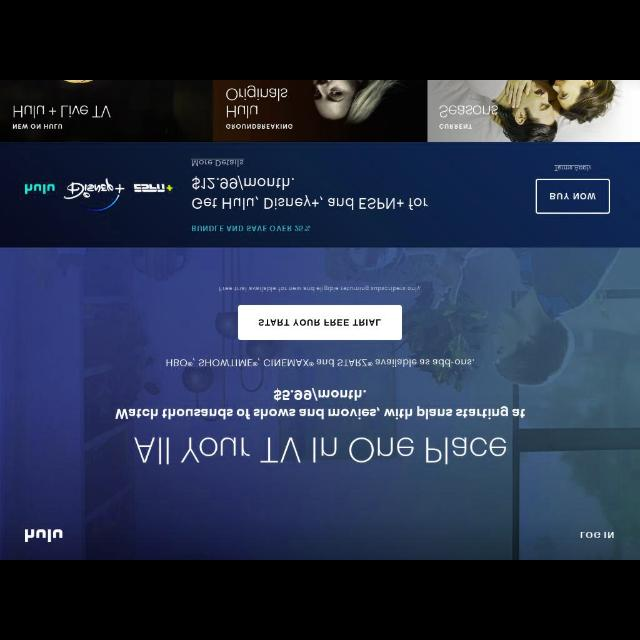backgroundimage: (1, 248, 640, 560)
image: (213, 81, 427, 141), (0, 81, 212, 141), (427, 81, 639, 141), (64, 178, 124, 212), (26, 183, 54, 194), (134, 184, 172, 192)
text: (133, 436, 507, 466), (115, 406, 525, 420), (192, 196, 428, 210), (166, 358, 474, 367), (192, 175, 294, 191), (219, 284, 421, 292), (274, 388, 366, 402), (259, 318, 381, 326), (192, 224, 310, 232), (25, 529, 63, 543), (550, 192, 596, 200), (191, 160, 243, 167), (554, 164, 592, 172), (580, 531, 614, 539)
textbutton: (238, 304, 402, 340), (537, 179, 609, 213)
